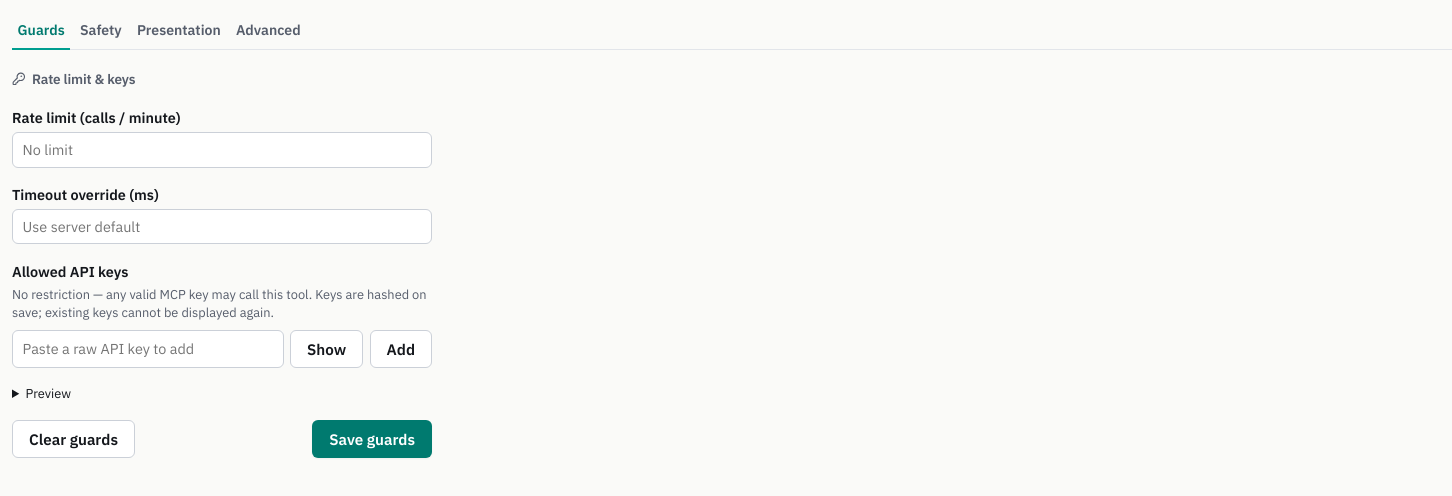
it: GuardEditor › flags a non-positive rate limit as invalid and disables Save
Type "0" into the field with id "rate-limit" at (222, 150), box [12,132,432,168]
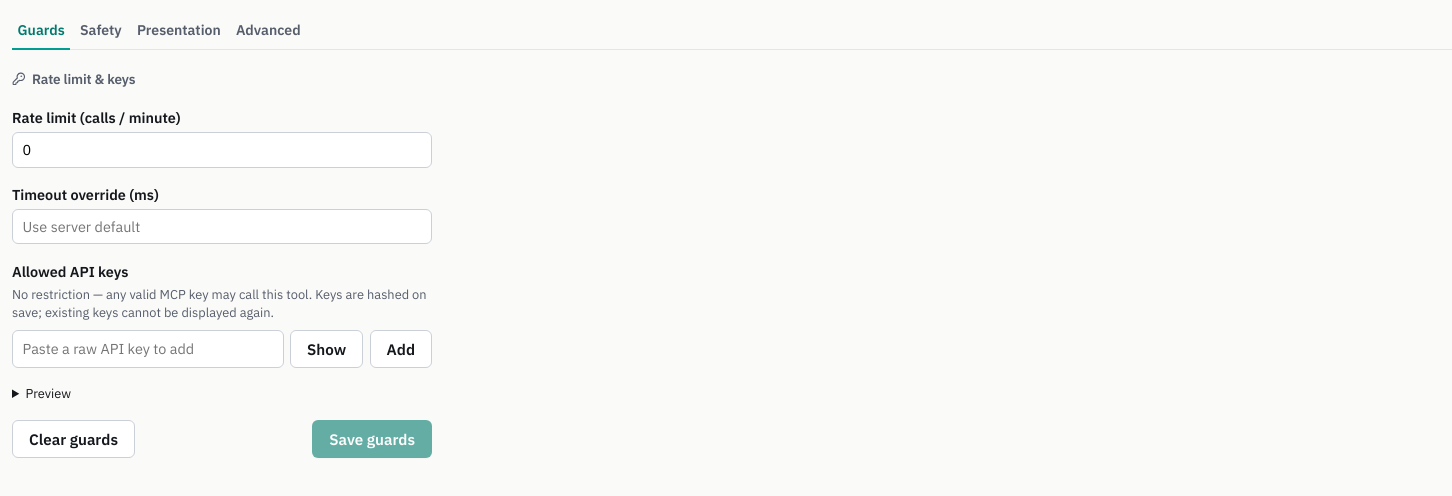
Leave the field with id "rate-limit", box [12,132,432,168]
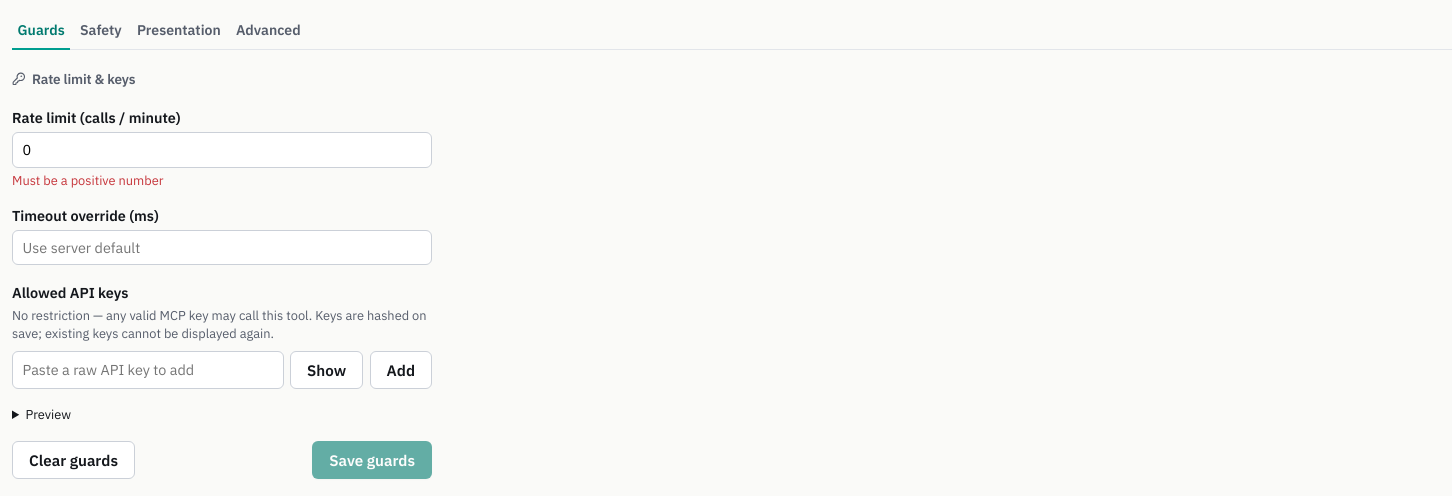
Now the submit button is disabled, box [312,441,432,479]
Now the message with class "field-error" reads "Must be a positive number", box [12,172,164,188]
